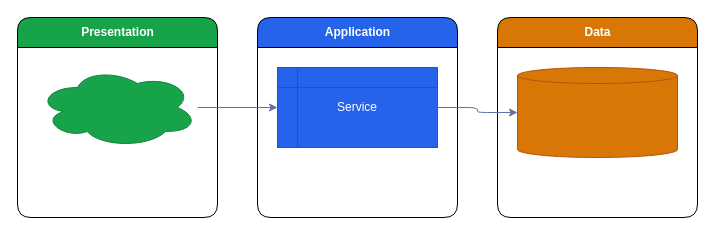
Image size: 715x235. Some labels were removed from this diagram. Here are the shapes that lost their labels. From the top down, the centre of each, then its label:
the point at 117,107: Web server
the point at 597,112: Database
